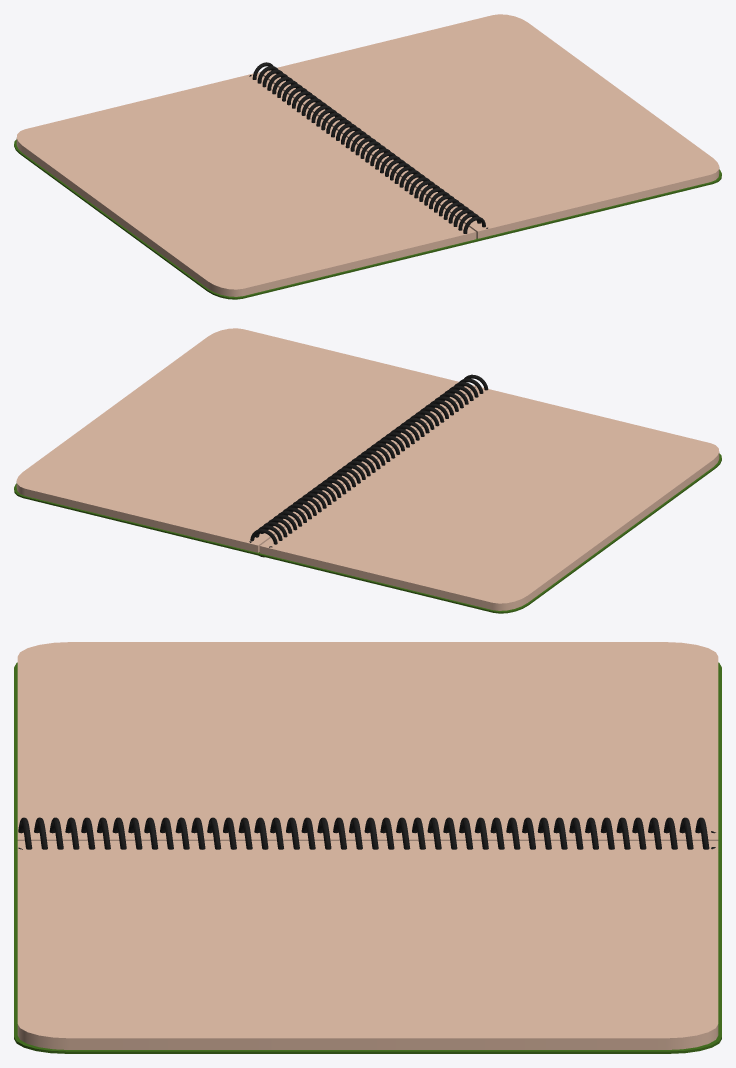
The model's file is LedgerOpen.gltf.
3 views of the same model, one above another, from view 1: azimuth 30°, elevation 25°; view 2: azimuth 150°, elevation 25°; view 3: azimuth 270°, elevation 25° (orthographic). The views are drawn at different scales.
Parts seen in each view (by area): view 1: Cube.003; view 2: Cube.003; view 3: Cube.003.
Part boxes in pixels (<box>): Cube.003: <box>14,14,721,299</box>; Cube.003: <box>14,328,721,613</box>; Cube.003: <box>14,642,721,1053</box>.
Bounding box in the file's own units: 0.6 × 0.029 × 0.45.
